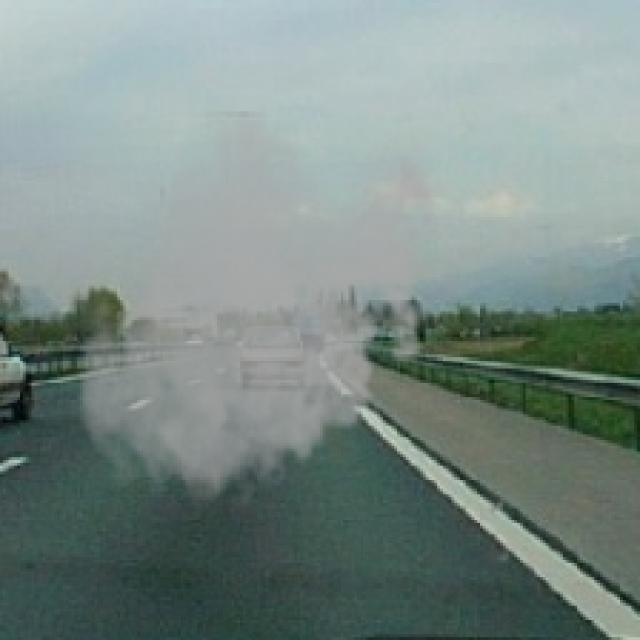smoke: (69, 112, 448, 517)
